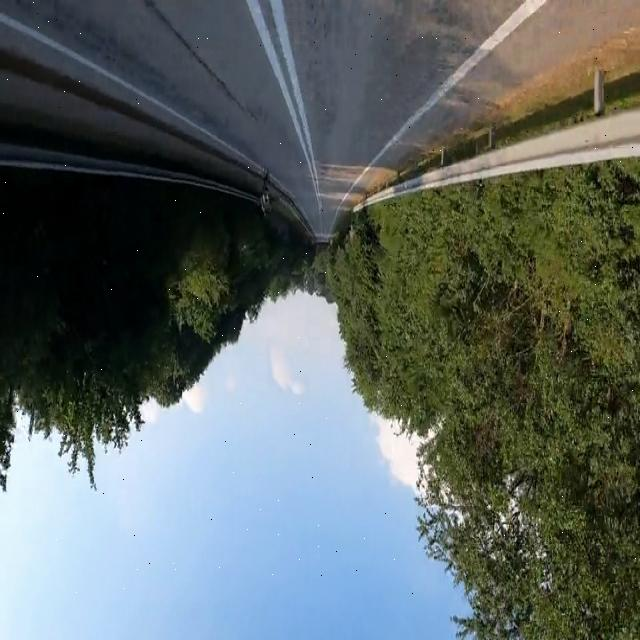lane: (332, 1, 545, 226), (0, 12, 260, 170), (248, 0, 314, 187), (270, 0, 321, 209)
road: (0, 0, 640, 240)
